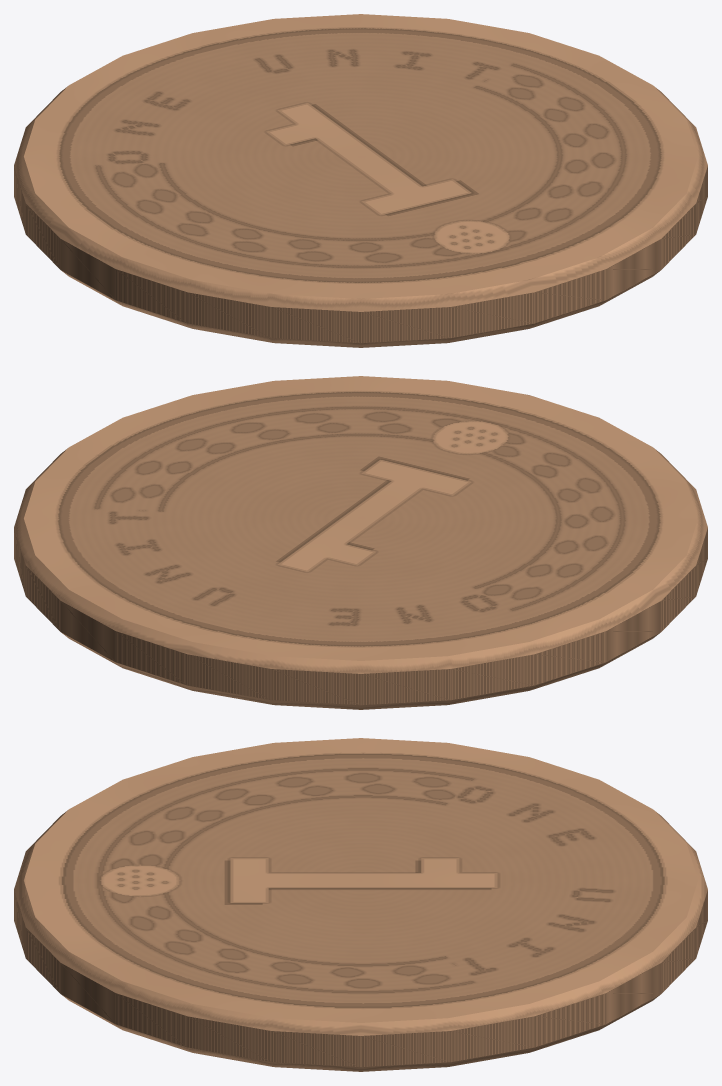
The model's file is cash_coin_01.glb.
The picture shows the model from 3 angles, top to bottom: view 1: azimuth 30°, elevation 25°; view 2: azimuth 150°, elevation 25°; view 3: azimuth 270°, elevation 25°; orthographic projection.
Parts seen in each view (by area): view 1: Coin_Body; view 2: Coin_Body; view 3: Coin_Body.
Part boxes in pixels (left/top/right/bottom): Coin_Body: left=14, top=14, right=707, bottom=347; Coin_Body: left=14, top=376, right=707, bottom=709; Coin_Body: left=14, top=738, right=707, bottom=1071.
Size of the model in its own units: 0.018 by 0.0014 by 0.018.
Materials: 1 (1 with a texture image).
